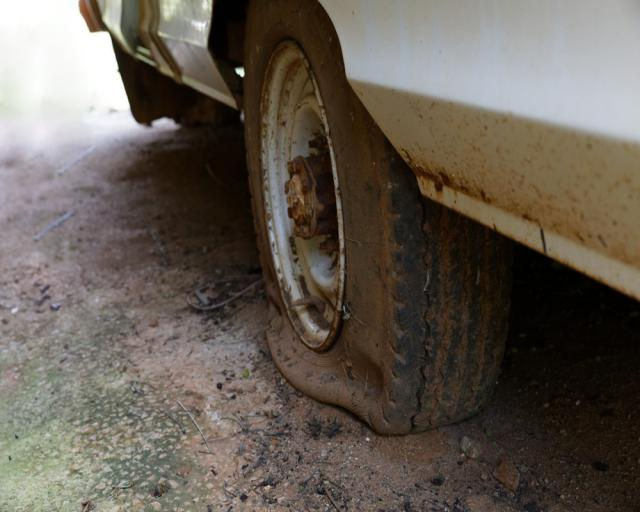tire flat: (243, 0, 509, 433)
